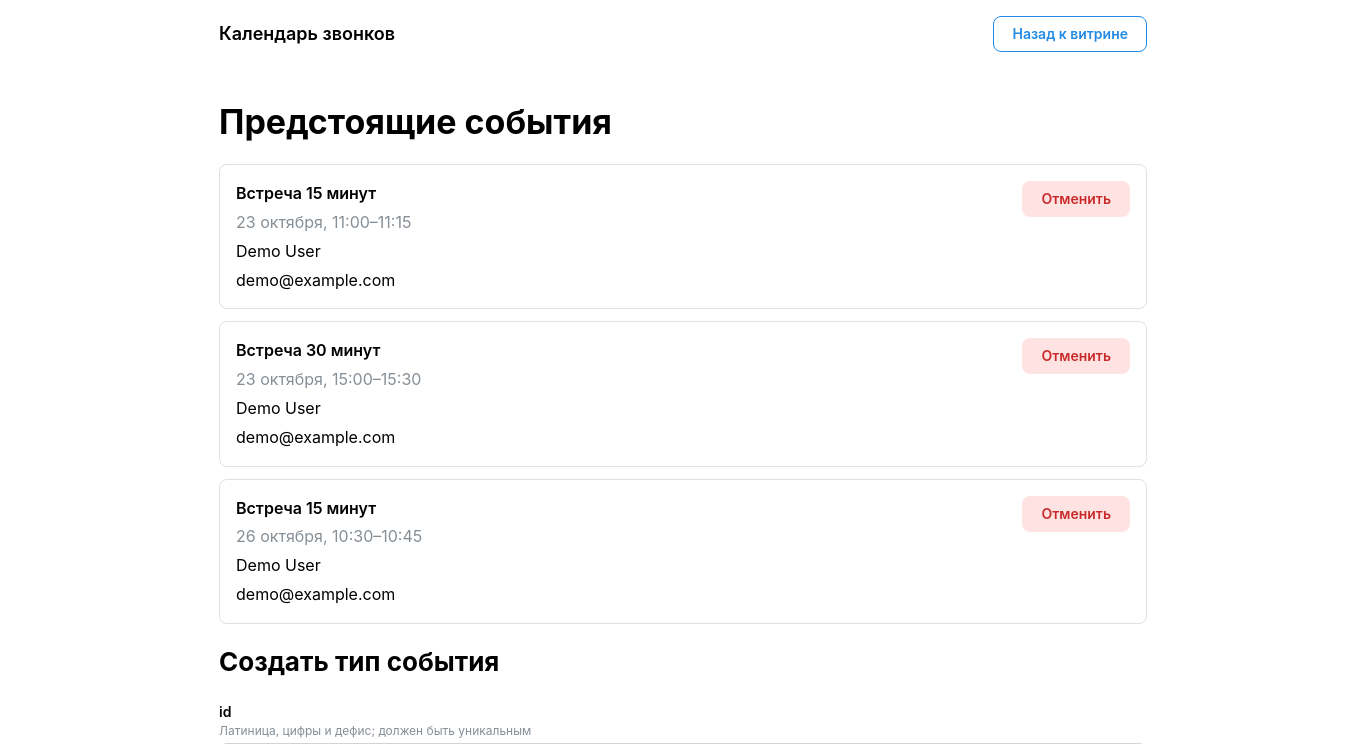
admin: «Отменить» открывает модалку, «Оставить» закрывает без изменений
Click the button "Отменить" in the row of "23 октября, 11:00–11:15".
click(1076, 199)  # box [1022, 181, 1130, 217]
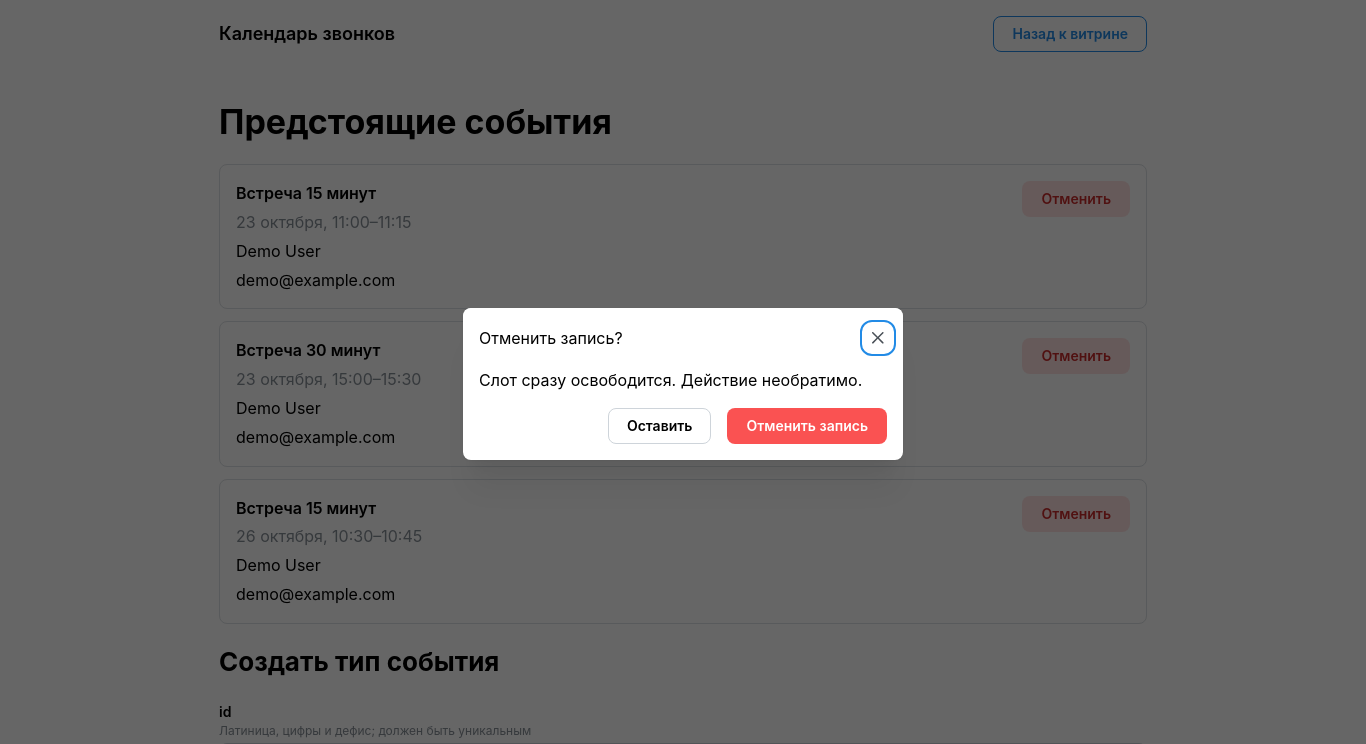
Expected: the heading "Отменить запись?" is shown, [479, 330, 623, 346]
Expected: the text "Слот сразу освободится. Действие необратимо." is shown, [479, 368, 887, 392]
Expected: the button "Отменить запись" is shown, [727, 408, 887, 444]
Click the button "Оставить".
click(660, 426)  # box [608, 408, 711, 444]
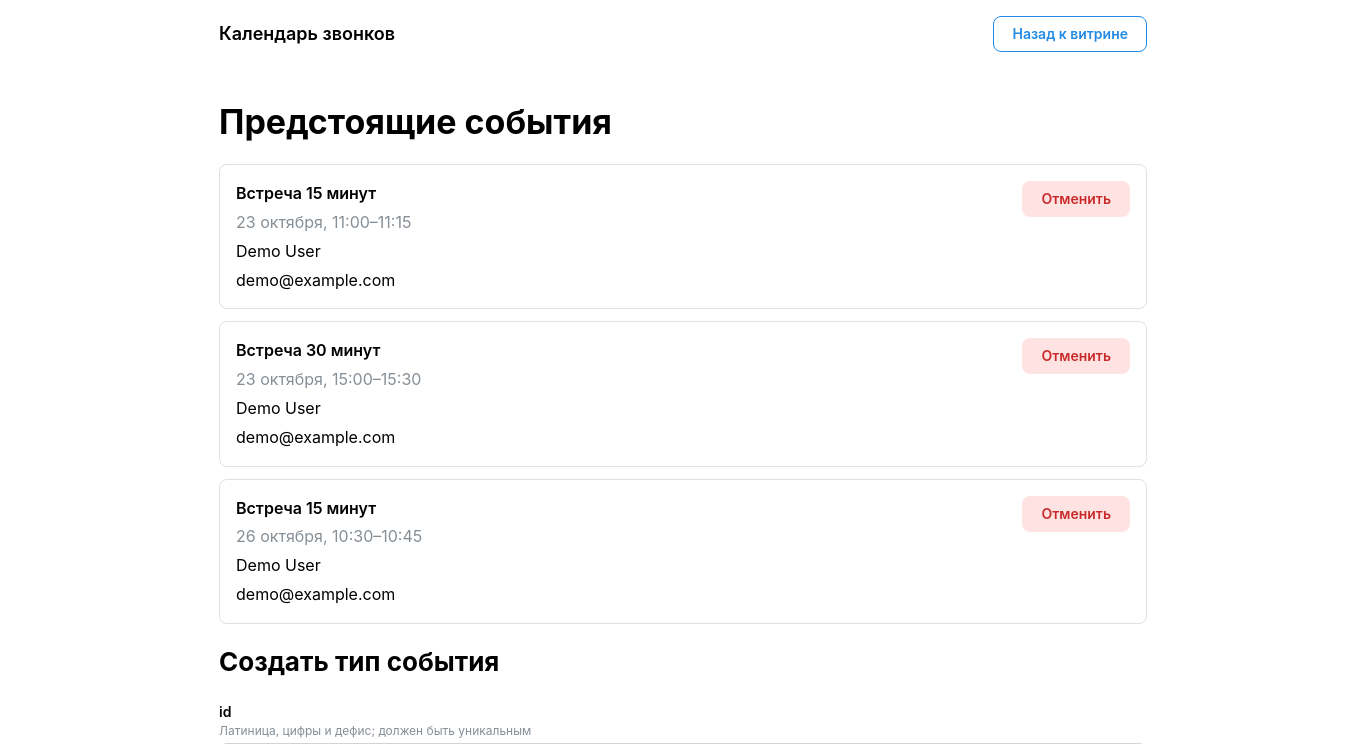
Expected: the heading "Отменить запись?" is gone
Expected: the number of buttons "Отменить" is 3, [1022, 181, 1130, 217]; [1022, 338, 1130, 374]; [1022, 496, 1130, 532]
